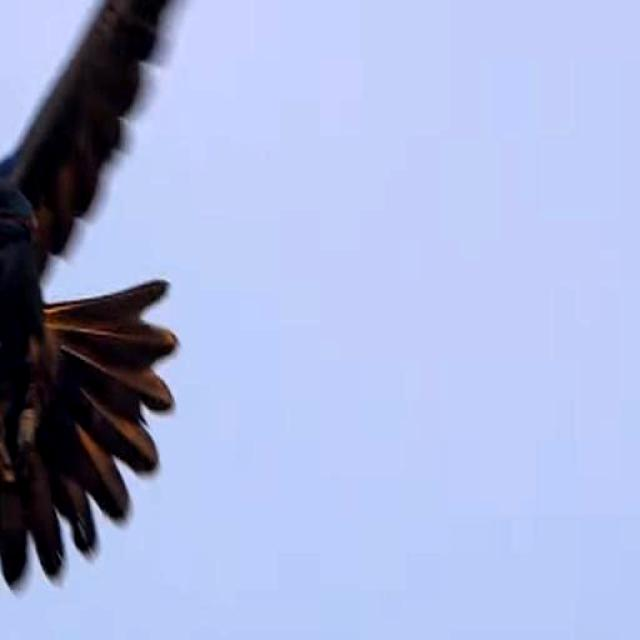airplane: (0, 0, 265, 605)
